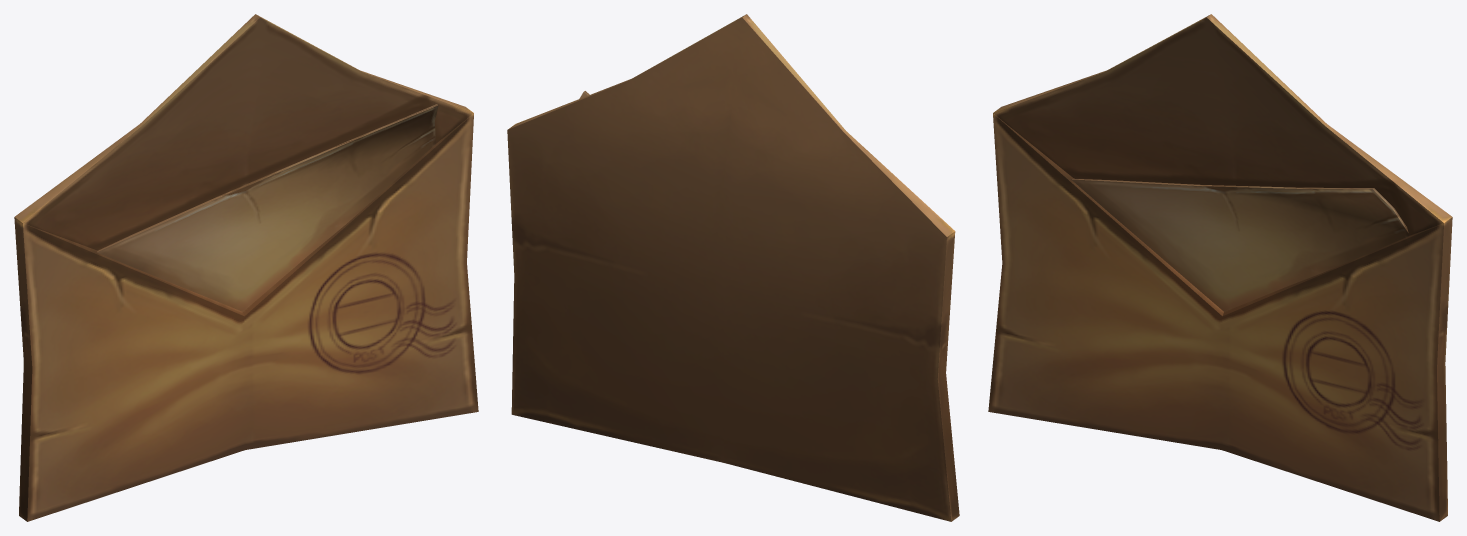
The model's file is 52_letter.FBX.
3 renders of one model, left to right at view 1: azimuth 30°, elevation 25°; view 2: azimuth 150°, elevation 25°; view 3: azimuth 330°, elevation 25°, orthographic. The views are drawn at different scales.
Visible parts, largest first — view 1: Object013; view 2: Object013; view 3: Object013.
Boxes of the visible parts, <box> form: Object013: <box>14,14,478,521</box>; Object013: <box>507,14,959,521</box>; Object013: <box>988,14,1452,521</box>.
Bounding box in the file's own units: 46.97 × 45.23 × 5.5.
